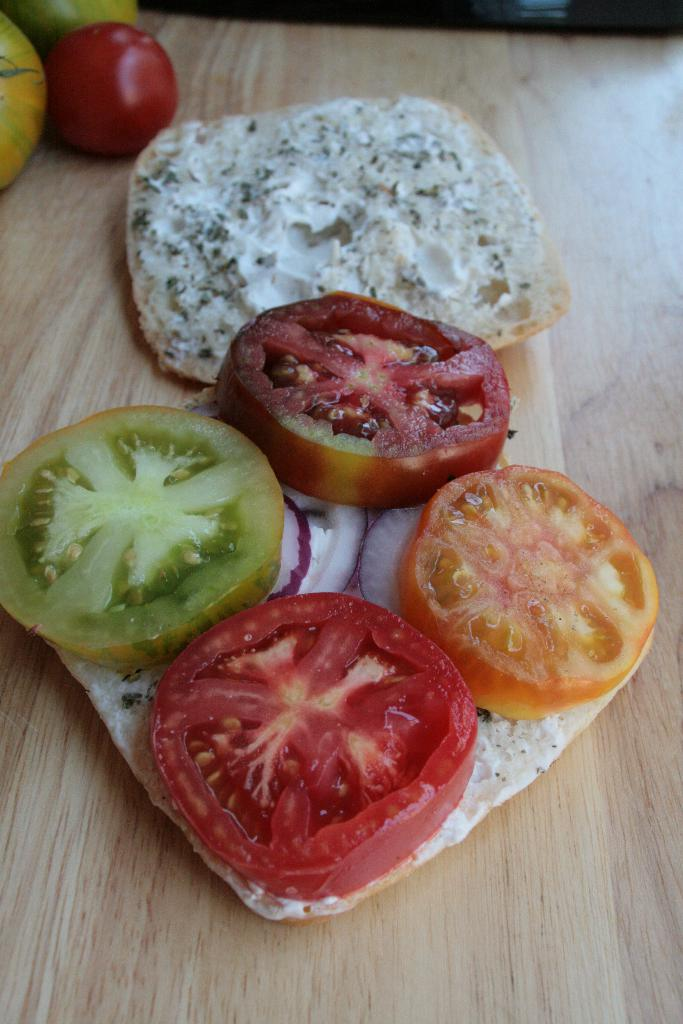Tomato: (140, 593, 479, 906), (0, 404, 288, 672), (212, 292, 517, 511), (398, 462, 659, 714), (33, 3, 181, 151), (0, 7, 49, 196)
